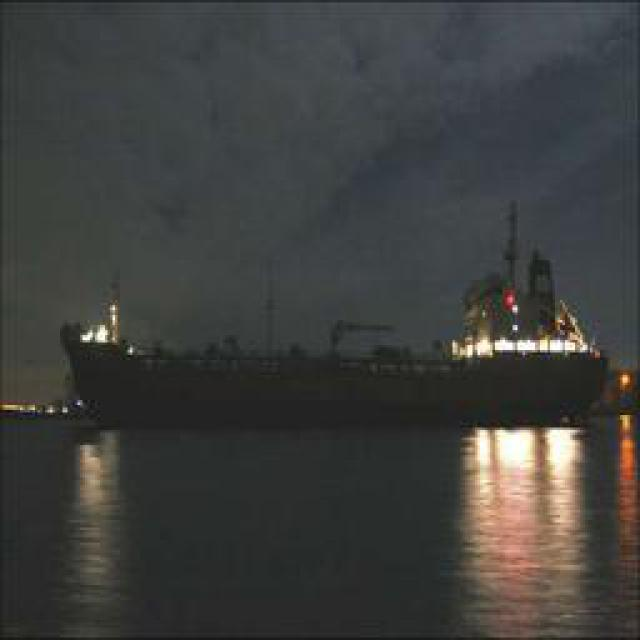Ship: (37, 231, 617, 433)
